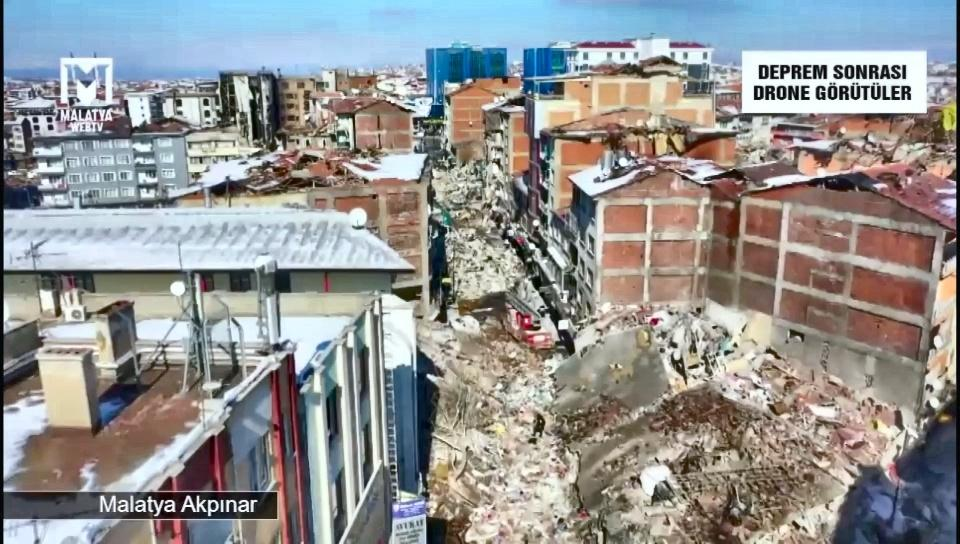kapali: (423, 308, 608, 543), (431, 167, 542, 308)
